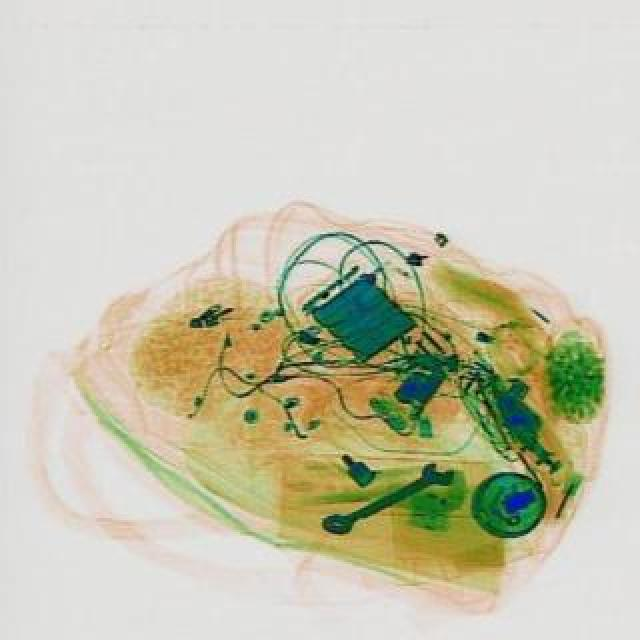scissors: (316, 452, 462, 542)
